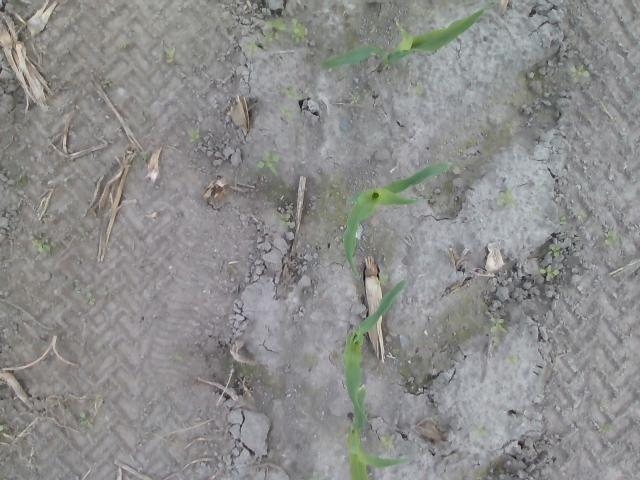Maize: (342, 161, 452, 269), (318, 7, 486, 70), (342, 278, 408, 432), (346, 411, 409, 480)
Weeds: (264, 16, 308, 44), (256, 150, 280, 175), (568, 63, 590, 84), (30, 238, 51, 255), (542, 264, 560, 282), (490, 316, 506, 336), (603, 230, 618, 246), (498, 190, 513, 206), (79, 410, 92, 428), (188, 126, 200, 144), (286, 88, 304, 100), (380, 436, 395, 450), (280, 106, 296, 118), (242, 41, 258, 52), (82, 293, 96, 305), (548, 246, 561, 257), (378, 274, 391, 285), (505, 356, 521, 364), (352, 94, 363, 103), (560, 216, 567, 225)
